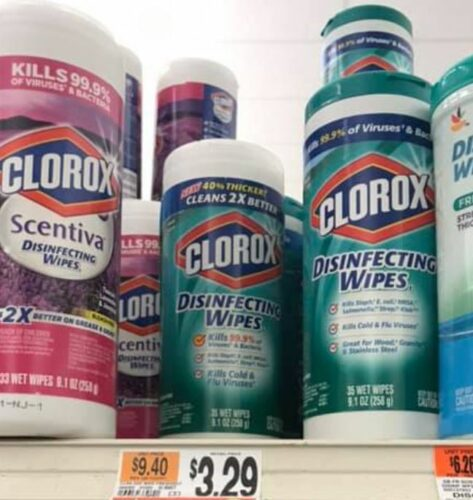Wipes: (294, 68, 446, 450), (1, 1, 129, 445), (153, 134, 289, 449), (104, 195, 167, 442), (146, 51, 244, 203), (271, 182, 308, 452), (315, 2, 418, 87), (105, 39, 147, 204)
